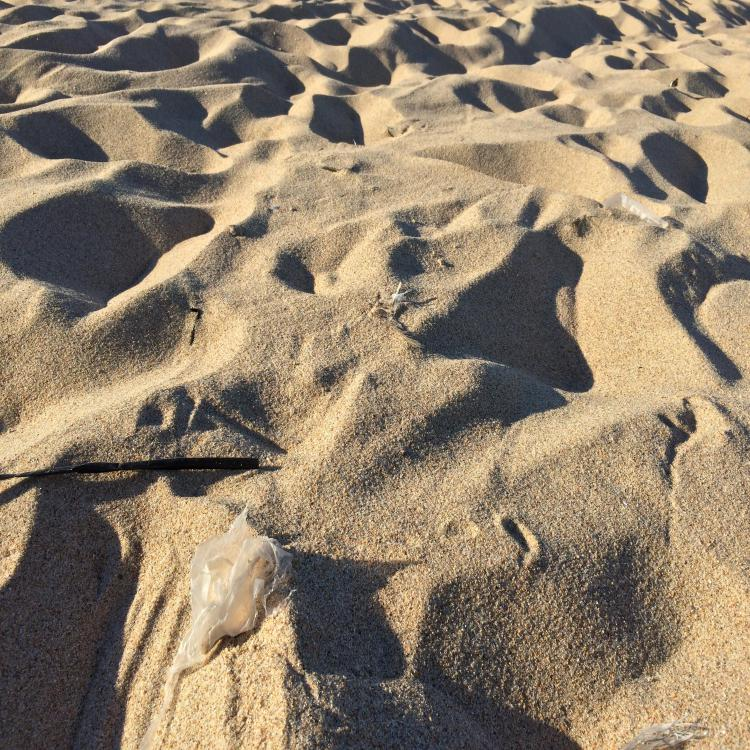Plastic film: (139, 503, 295, 750), (604, 193, 669, 229)
Plastic straw: (0, 458, 259, 480)
